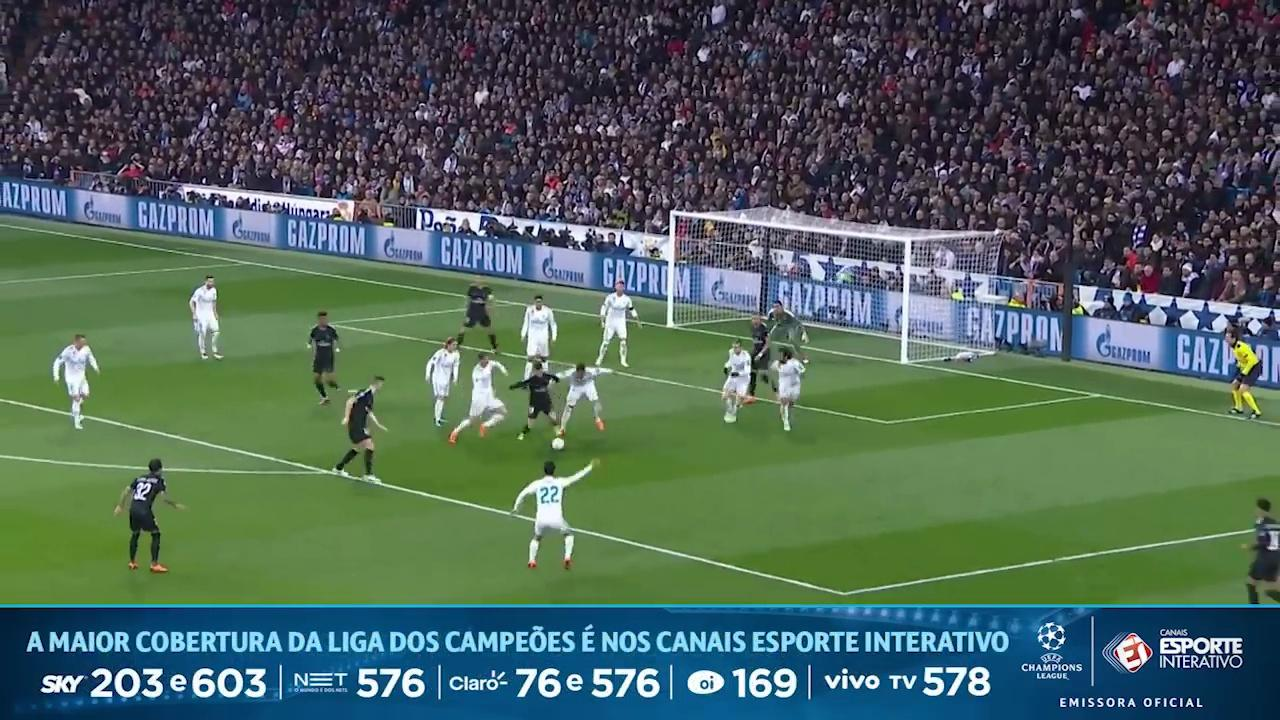football: (551, 437, 565, 451)
player: (512, 460, 597, 569), (114, 459, 184, 572), (334, 376, 386, 483), (449, 353, 507, 443), (53, 334, 99, 429), (557, 363, 611, 435), (595, 281, 639, 367), (511, 361, 559, 439), (1244, 498, 1279, 604), (425, 338, 460, 426), (520, 295, 557, 377), (457, 278, 497, 352), (308, 311, 339, 403), (189, 275, 221, 359), (745, 314, 775, 403), (773, 348, 805, 431), (722, 341, 753, 422), (769, 301, 807, 363)
referee: (1225, 327, 1261, 418)
